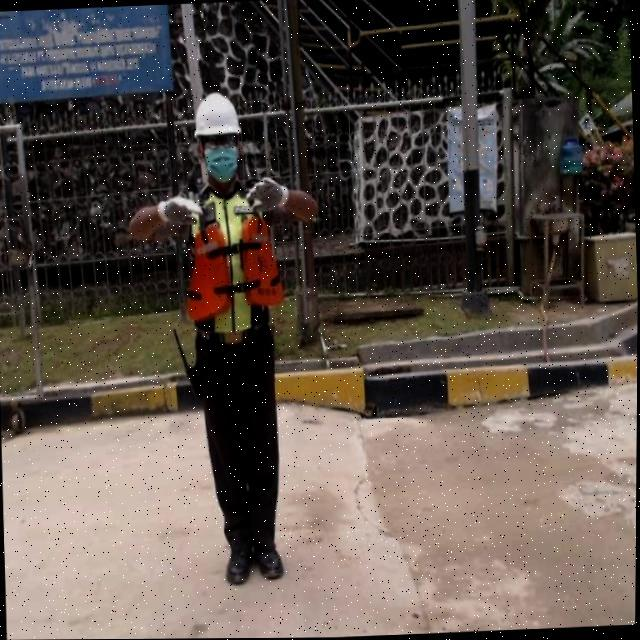goggles_on: (188, 130, 250, 154)
